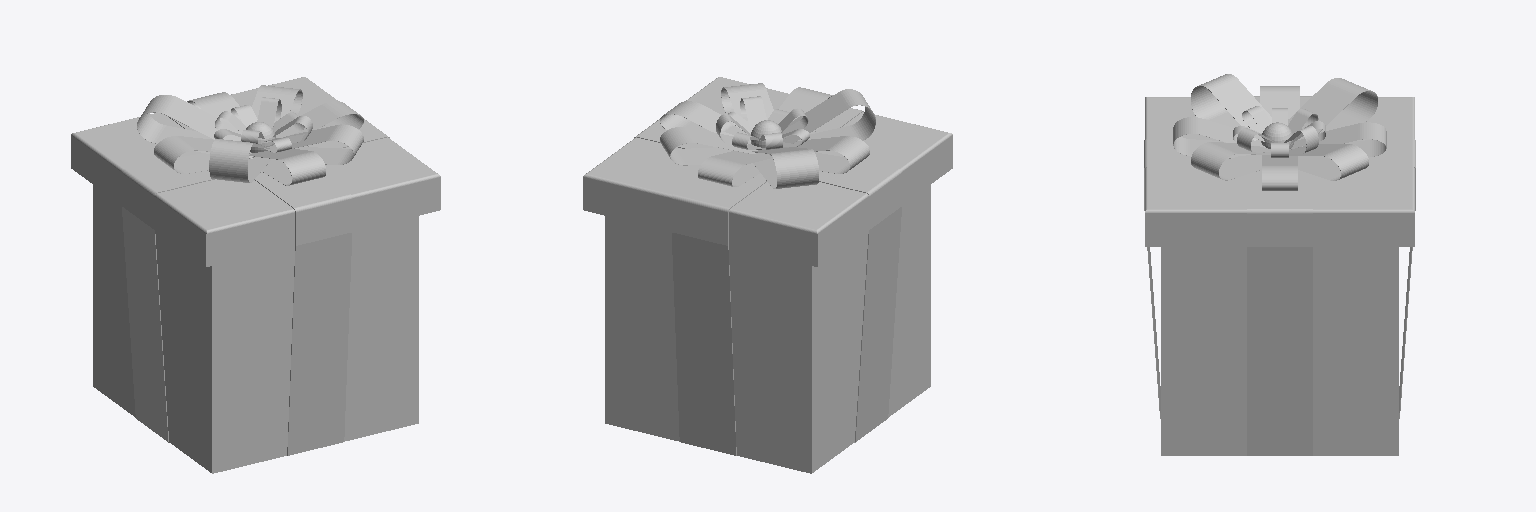
The model's file is gifts.obj.
The picture shows the model from 3 angles: view 1: azimuth 30°, elevation 25°; view 2: azimuth 150°, elevation 25°; view 3: azimuth 270°, elevation 25°; orthographic projection.
Parts seen in each view (by area): view 1: Group_001, Group_002, Cinta_004, Cinta_002, Group_009, Group_007, Group_018, Group_003, Group_006, Group_005, Group_004, Group_008 (+2 smaller); view 2: Group_001, Group_002, Cinta_001, Cinta_002, Group_007, Group_009, Group_004, Group_008, Group_006, Group_005, Group_003, Group_018 (+1 smaller); view 3: Group_001, Group_002, Cinta_003, Group_009, Group_007, Group_004, Group_003, Cinta_004, Cinta_001, Group_018, Group_008, Group_005 (+2 smaller).
Part boxes in pixels (left/top/right/bottom): Group_001: left=93, top=185, right=418, bottom=473; Group_002: left=71, top=77, right=440, bottom=266; Cinta_004: left=255, top=171, right=351, bottom=455; Cinta_002: left=122, top=151, right=214, bottom=442; Group_009: left=137, top=95, right=252, bottom=158; Group_007: left=209, top=139, right=271, bottom=182; Group_018: left=249, top=149, right=325, bottom=185; Group_003: left=249, top=124, right=363, bottom=164; Group_006: left=154, top=136, right=251, bottom=173; Group_005: left=289, top=101, right=363, bottom=146; Group_004: left=252, top=85, right=302, bottom=118; Group_008: left=187, top=92, right=239, bottom=124; Group_001: left=605, top=185, right=930, bottom=473; Group_002: left=583, top=77, right=952, bottom=266; Cinta_001: left=672, top=173, right=766, bottom=455; Cinta_002: left=816, top=151, right=901, bottom=442; Group_007: left=783, top=89, right=875, bottom=147; Group_009: left=752, top=147, right=818, bottom=188; Group_004: left=660, top=127, right=757, bottom=165; Group_008: left=698, top=151, right=772, bottom=186; Group_006: left=769, top=136, right=869, bottom=173; Group_005: left=660, top=101, right=736, bottom=135; Group_003: left=721, top=83, right=773, bottom=141; Group_018: left=779, top=87, right=832, bottom=133; Group_001: left=1161, top=247, right=1398, bottom=455; Group_002: left=1145, top=97, right=1414, bottom=246; Cinta_003: left=1247, top=170, right=1312, bottom=455; Group_009: left=1288, top=78, right=1377, bottom=146; Group_007: left=1191, top=74, right=1271, bottom=140; Group_004: left=1289, top=144, right=1368, bottom=180; Group_003: left=1191, top=142, right=1270, bottom=180; Cinta_004: left=1144, top=139, right=1228, bottom=418; Cinta_001: left=1357, top=139, right=1415, bottom=418; Group_018: left=1173, top=117, right=1250, bottom=158; Group_008: left=1319, top=122, right=1386, bottom=158; Group_005: left=1262, top=155, right=1297, bottom=190.
Size of the model in its own units: 13.5 by 16.33 by 13.5.